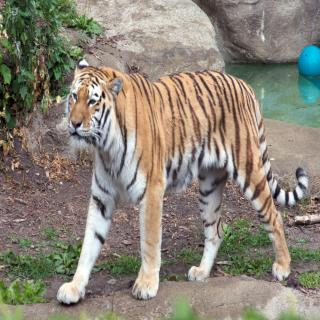Tiger: (57, 59, 308, 305)
